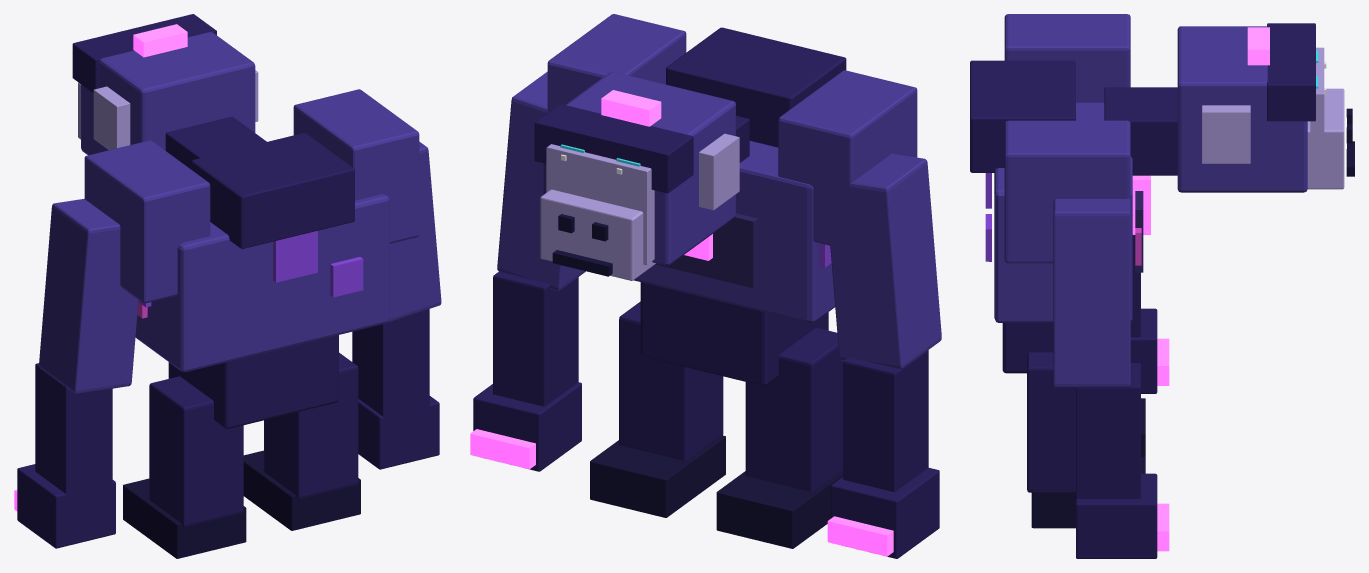
The model's file is cosmic-gorilla.glb.
The picture shows the model from 3 angles, left to right: view 1: azimuth 30°, elevation 25°; view 2: azimuth 150°, elevation 25°; view 3: azimuth 270°, elevation 25°; orthographic projection. The views are drawn at different scales.
Visible parts, largest first — view 1: body, arm.R, head, arm.L, leg.FR, leg.FL, ear.R; view 2: body, arm.R, head, arm.L, leg.FR, leg.FL, ear.R; view 3: body, arm.L, head, leg.FL, arm.R, ear.L.
Boxes of the visible parts, left/top/right/bottom form: body: left=84, top=89, right=419, bottom=428; arm.R: left=14, top=198, right=138, bottom=548; head: left=72, top=14, right=255, bottom=155; arm.L: left=352, top=141, right=441, bottom=469; leg.FR: left=123, top=376, right=246, bottom=558; leg.FL: left=243, top=352, right=360, bottom=530; ear.R: left=93, top=86, right=130, bottom=150; body: left=547, top=14, right=917, bottom=385; arm.R: left=826, top=154, right=941, bottom=558; head: left=534, top=72, right=735, bottom=280; arm.L: left=470, top=71, right=585, bottom=471; leg.FR: left=716, top=327, right=843, bottom=548; leg.FL: left=590, top=301, right=725, bottom=517; ear.R: left=699, top=133, right=739, bottom=210; body: left=970, top=14, right=1177, bottom=373; arm.L: left=1053, top=198, right=1169, bottom=558; head: left=1177, top=23, right=1354, bottom=192; leg.FL: left=1027, top=352, right=1145, bottom=528; arm.R: left=1130, top=235, right=1169, bottom=393; ear.L: left=1202, top=105, right=1250, bottom=163.
Size of the model in its own units: 0.9487 by 1 by 0.7872.
